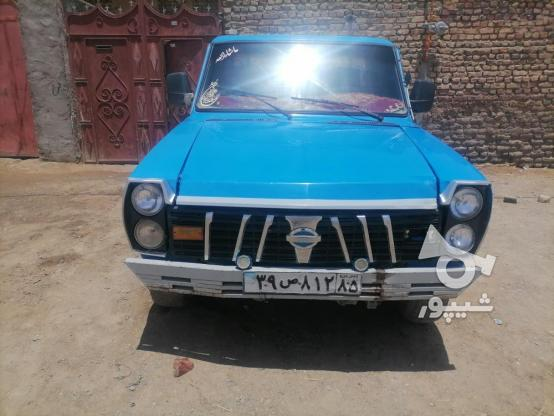car: (242, 271, 362, 295)
